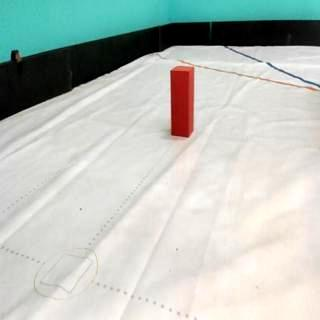redbox: (169, 66, 195, 138)
